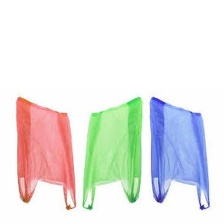plastic_bag: (10, 91, 77, 213), (79, 89, 143, 212), (146, 93, 211, 213)
